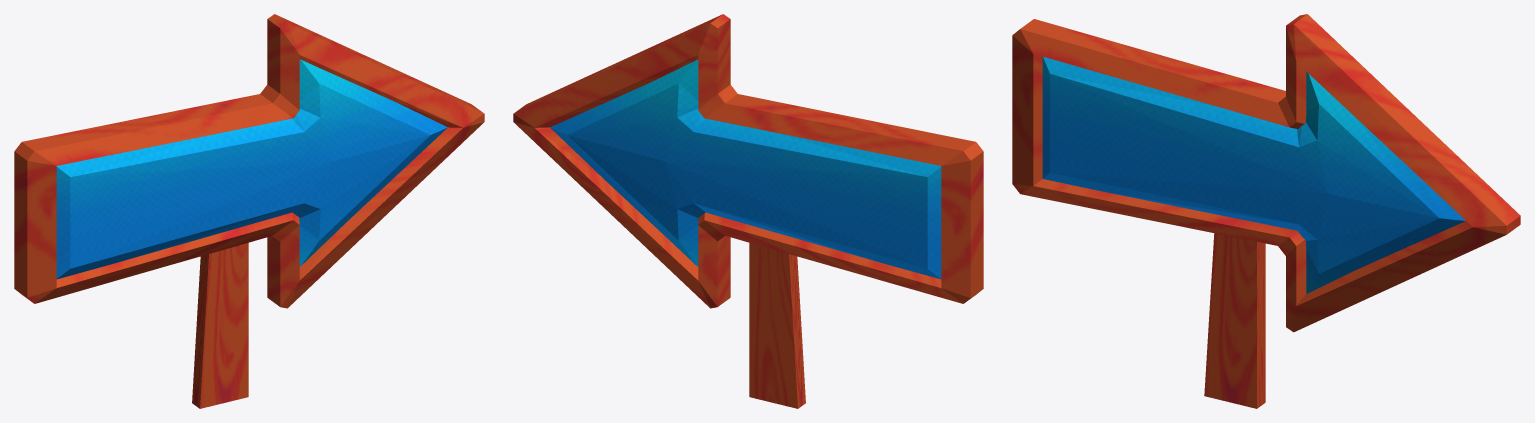
File: arrow.fbx
The picture shows the model from 3 angles, left to right: view 1: azimuth 30°, elevation 25°; view 2: azimuth 150°, elevation 25°; view 3: azimuth 330°, elevation 25°; orthographic projection. The views are drawn at different scales.
Parts seen in each view (by area): view 1: ID19, ID27, ID35; view 2: n0b0, ID27, ID35; view 3: ID19, ID27, ID35.
Boxes of the visible parts, <box> form: ID19: <box>56,59,447,279</box>; ID27: <box>14,14,484,308</box>; ID35: <box>192,243,248,408</box>; n0b0: <box>550,59,941,279</box>; ID27: <box>513,14,983,308</box>; ID35: <box>749,243,805,408</box>; ID19: <box>1042,57,1465,293</box>; ID27: <box>1012,14,1520,332</box>; ID35: <box>1204,233,1265,408</box>.
Size of the model in its own units: 47 by 36 by 4.66.
Materials: 1 (1 with a texture image).
